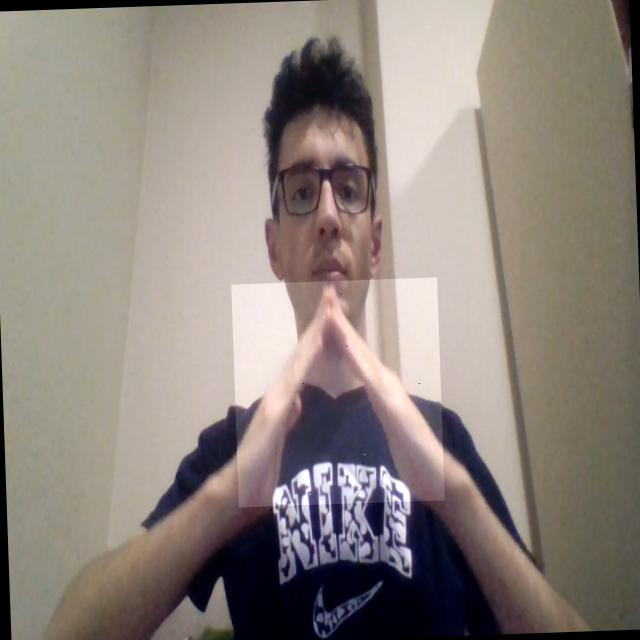house: (230, 277, 444, 508)
